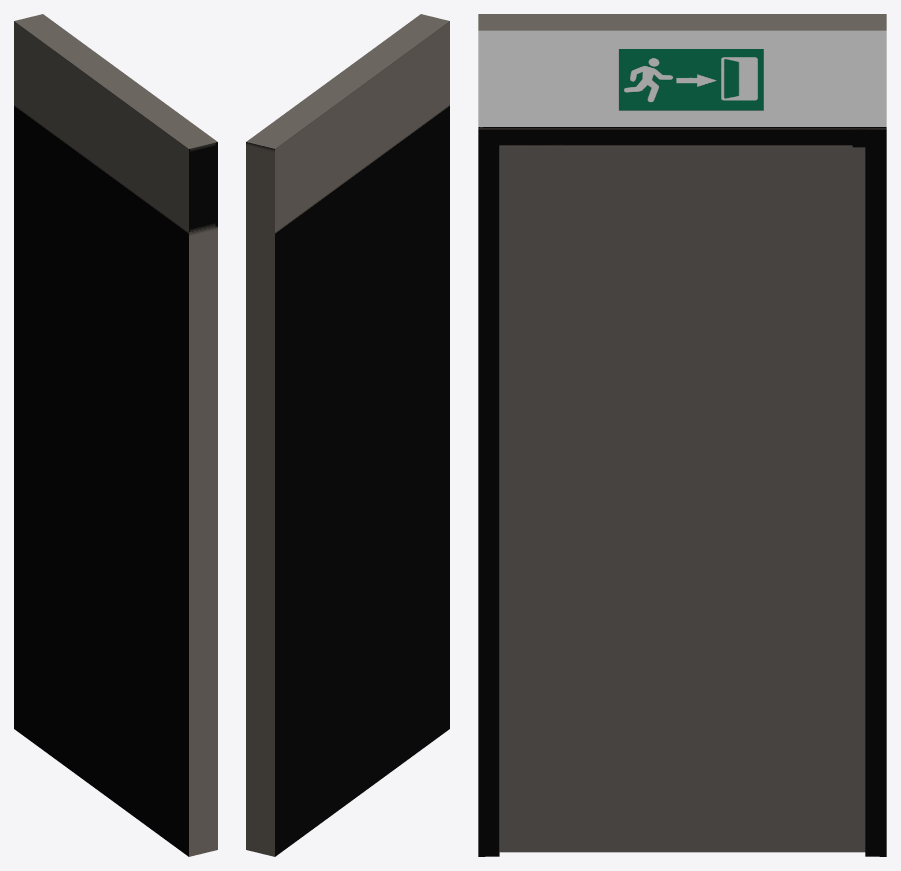
The model's file is Exit Door.glb.
The picture shows the model from 3 angles, left to right: view 1: azimuth 30°, elevation 25°; view 2: azimuth 150°, elevation 25°; view 3: azimuth 270°, elevation 25°; orthographic projection. The views are drawn at different scales.
Visible parts, largest first — view 1: Door Frame; view 2: Door Frame; view 3: Door, Door Frame.
Part boxes in pixels (box(x1,y1,x2,y2)): Door Frame: box(14, 14, 217, 856); Door Frame: box(246, 14, 449, 856); Door: box(499, 147, 865, 852); Door Frame: box(478, 14, 886, 856).
Size of the model in its own units: 0.1963 by 4.58 by 2.05.
Materials: 1 (1 with a texture image).
